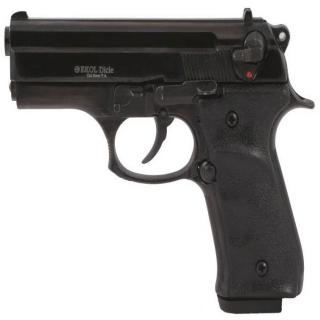gun: (1, 5, 316, 317)
